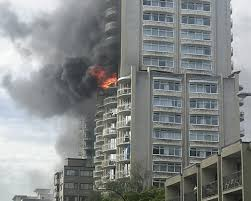smoke: (1, 1, 120, 116)
